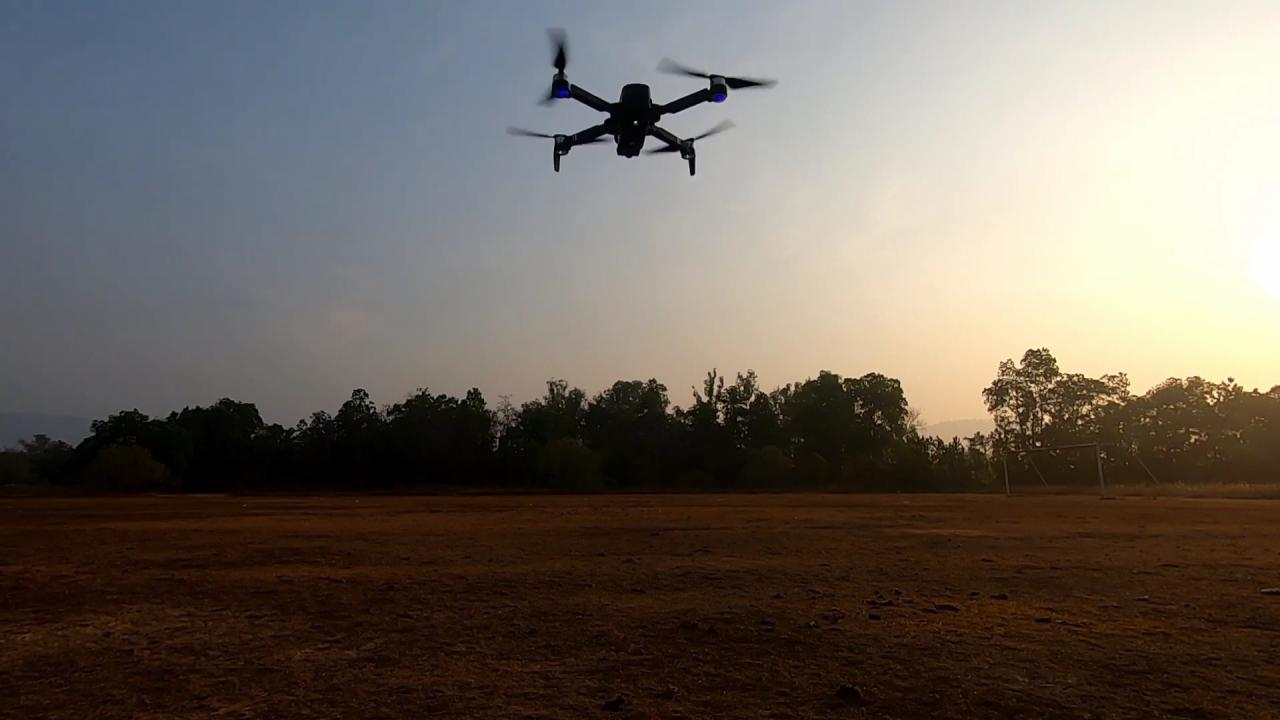Drone: (498, 19, 789, 187)
